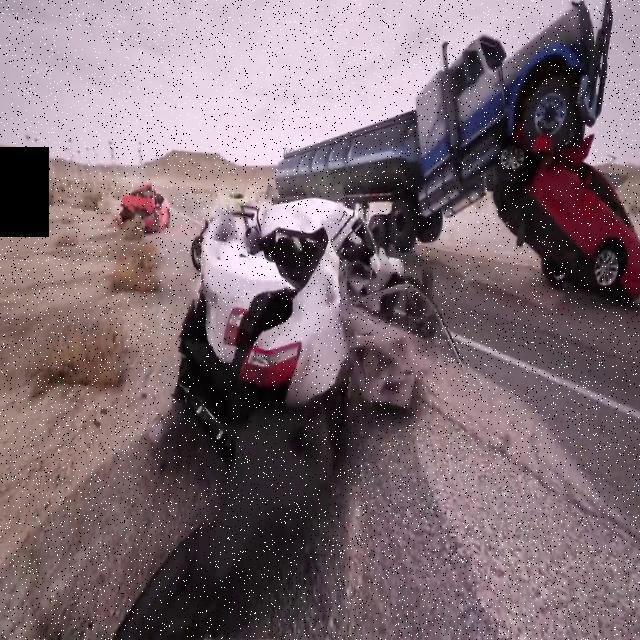severe: (264, 16, 640, 309), (174, 179, 416, 482)
